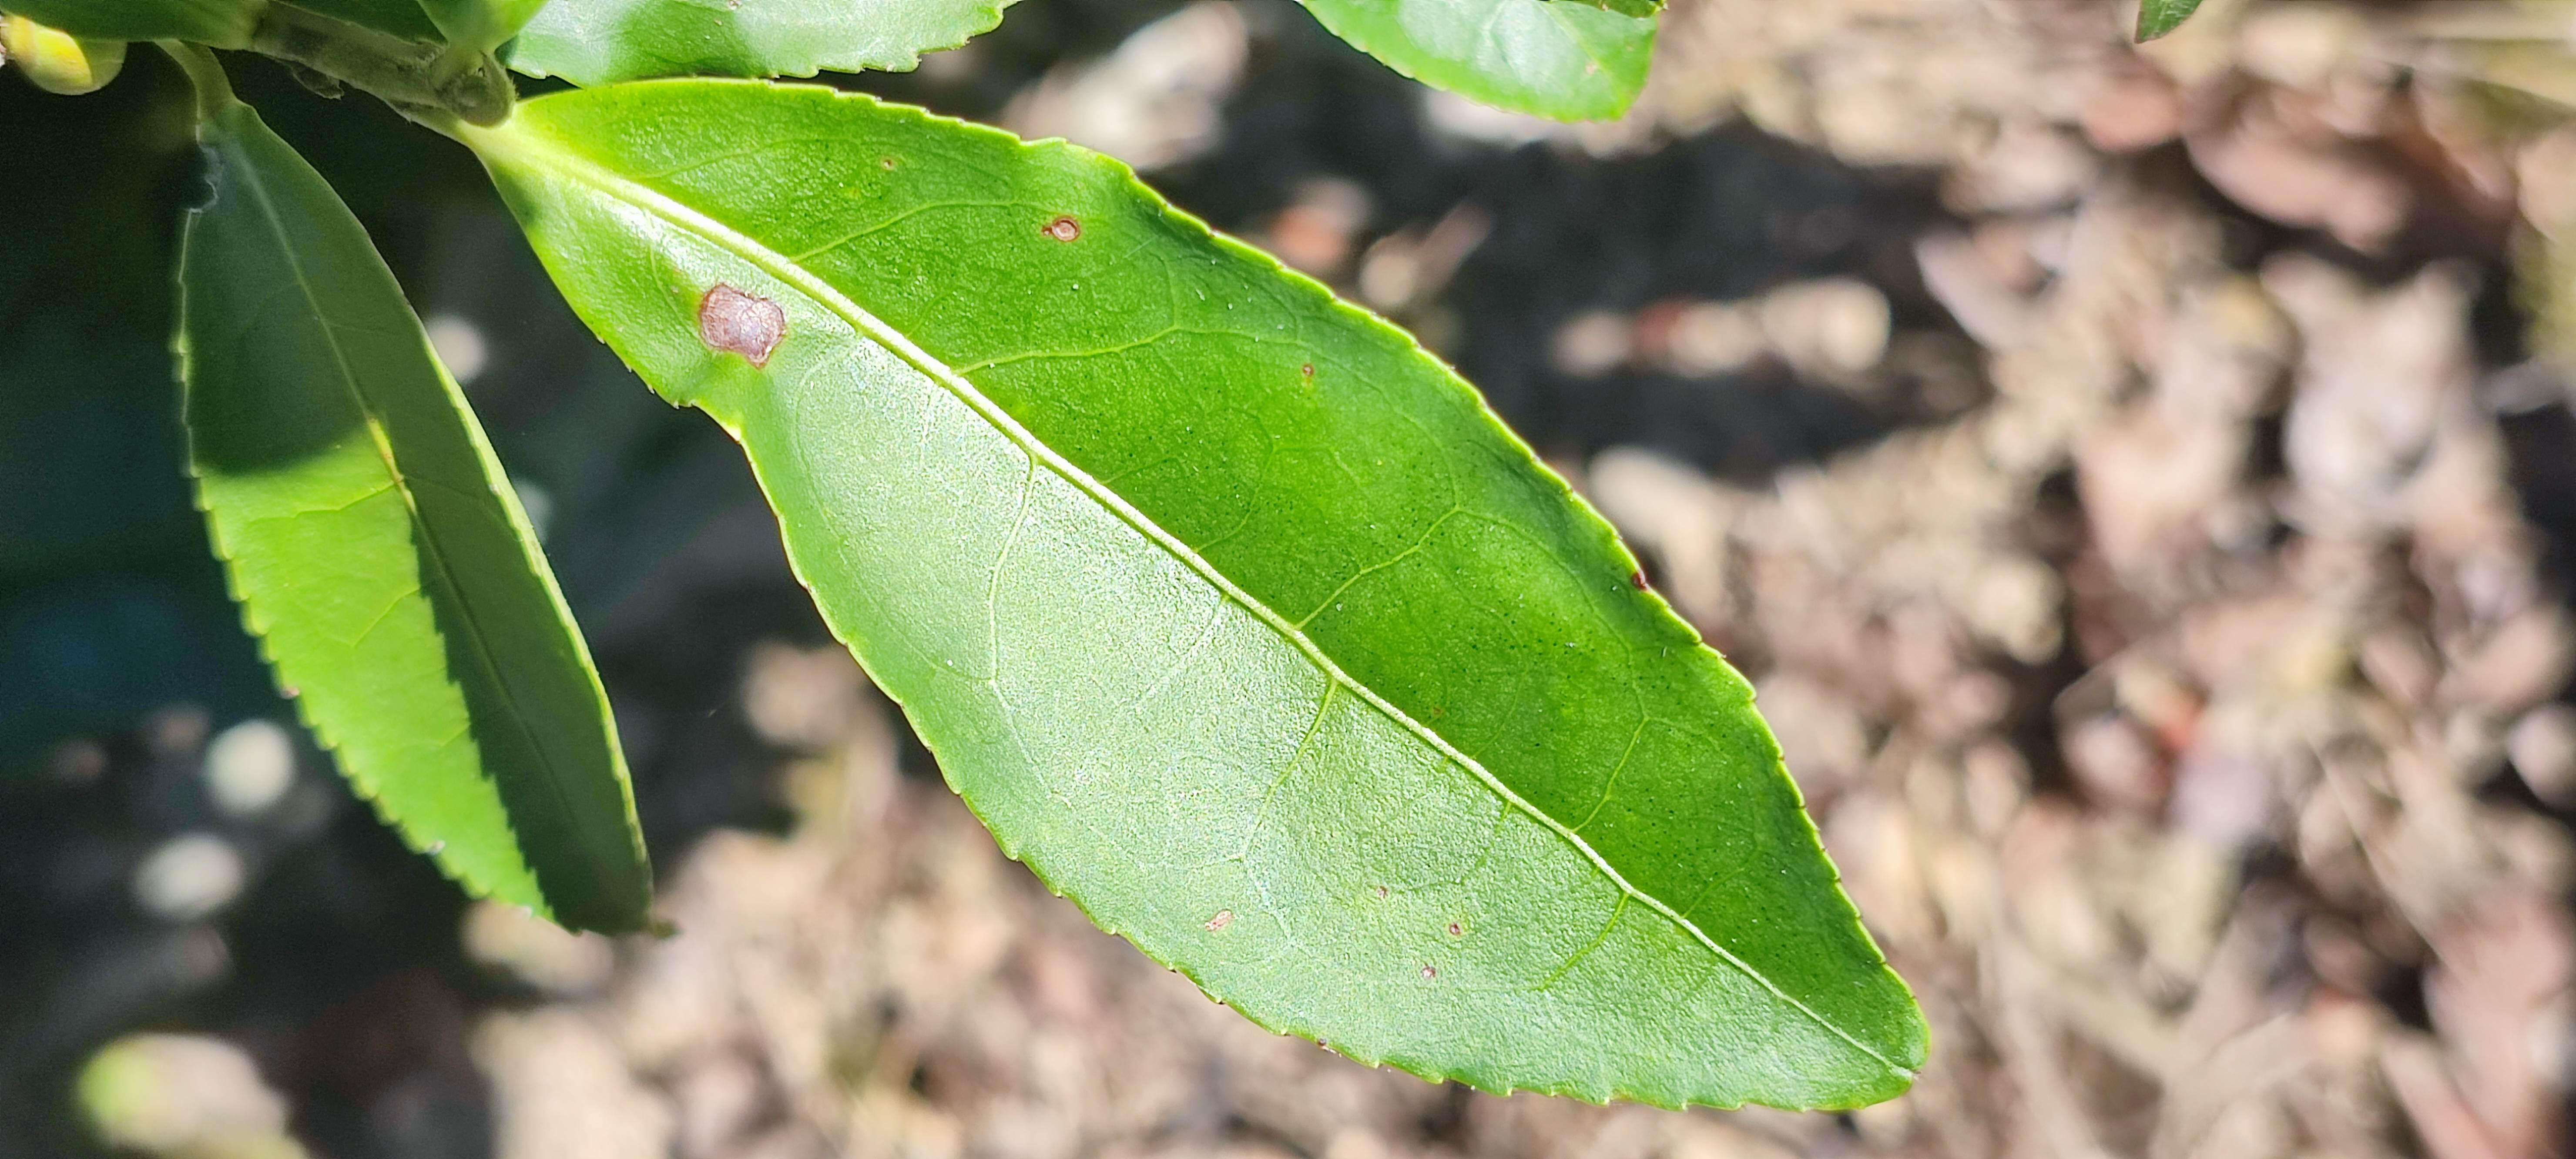chihuo_low: (166, 108, 660, 936)
tanju_low: (475, 76, 1925, 1118)
